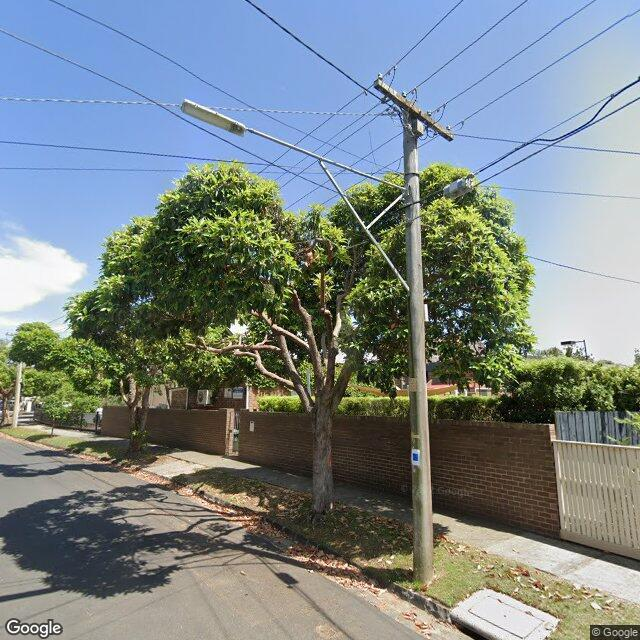crossarm: (374, 79, 454, 142)
streetlight: (181, 99, 410, 197)
timber-pole: (403, 107, 433, 586), (13, 362, 22, 428)
